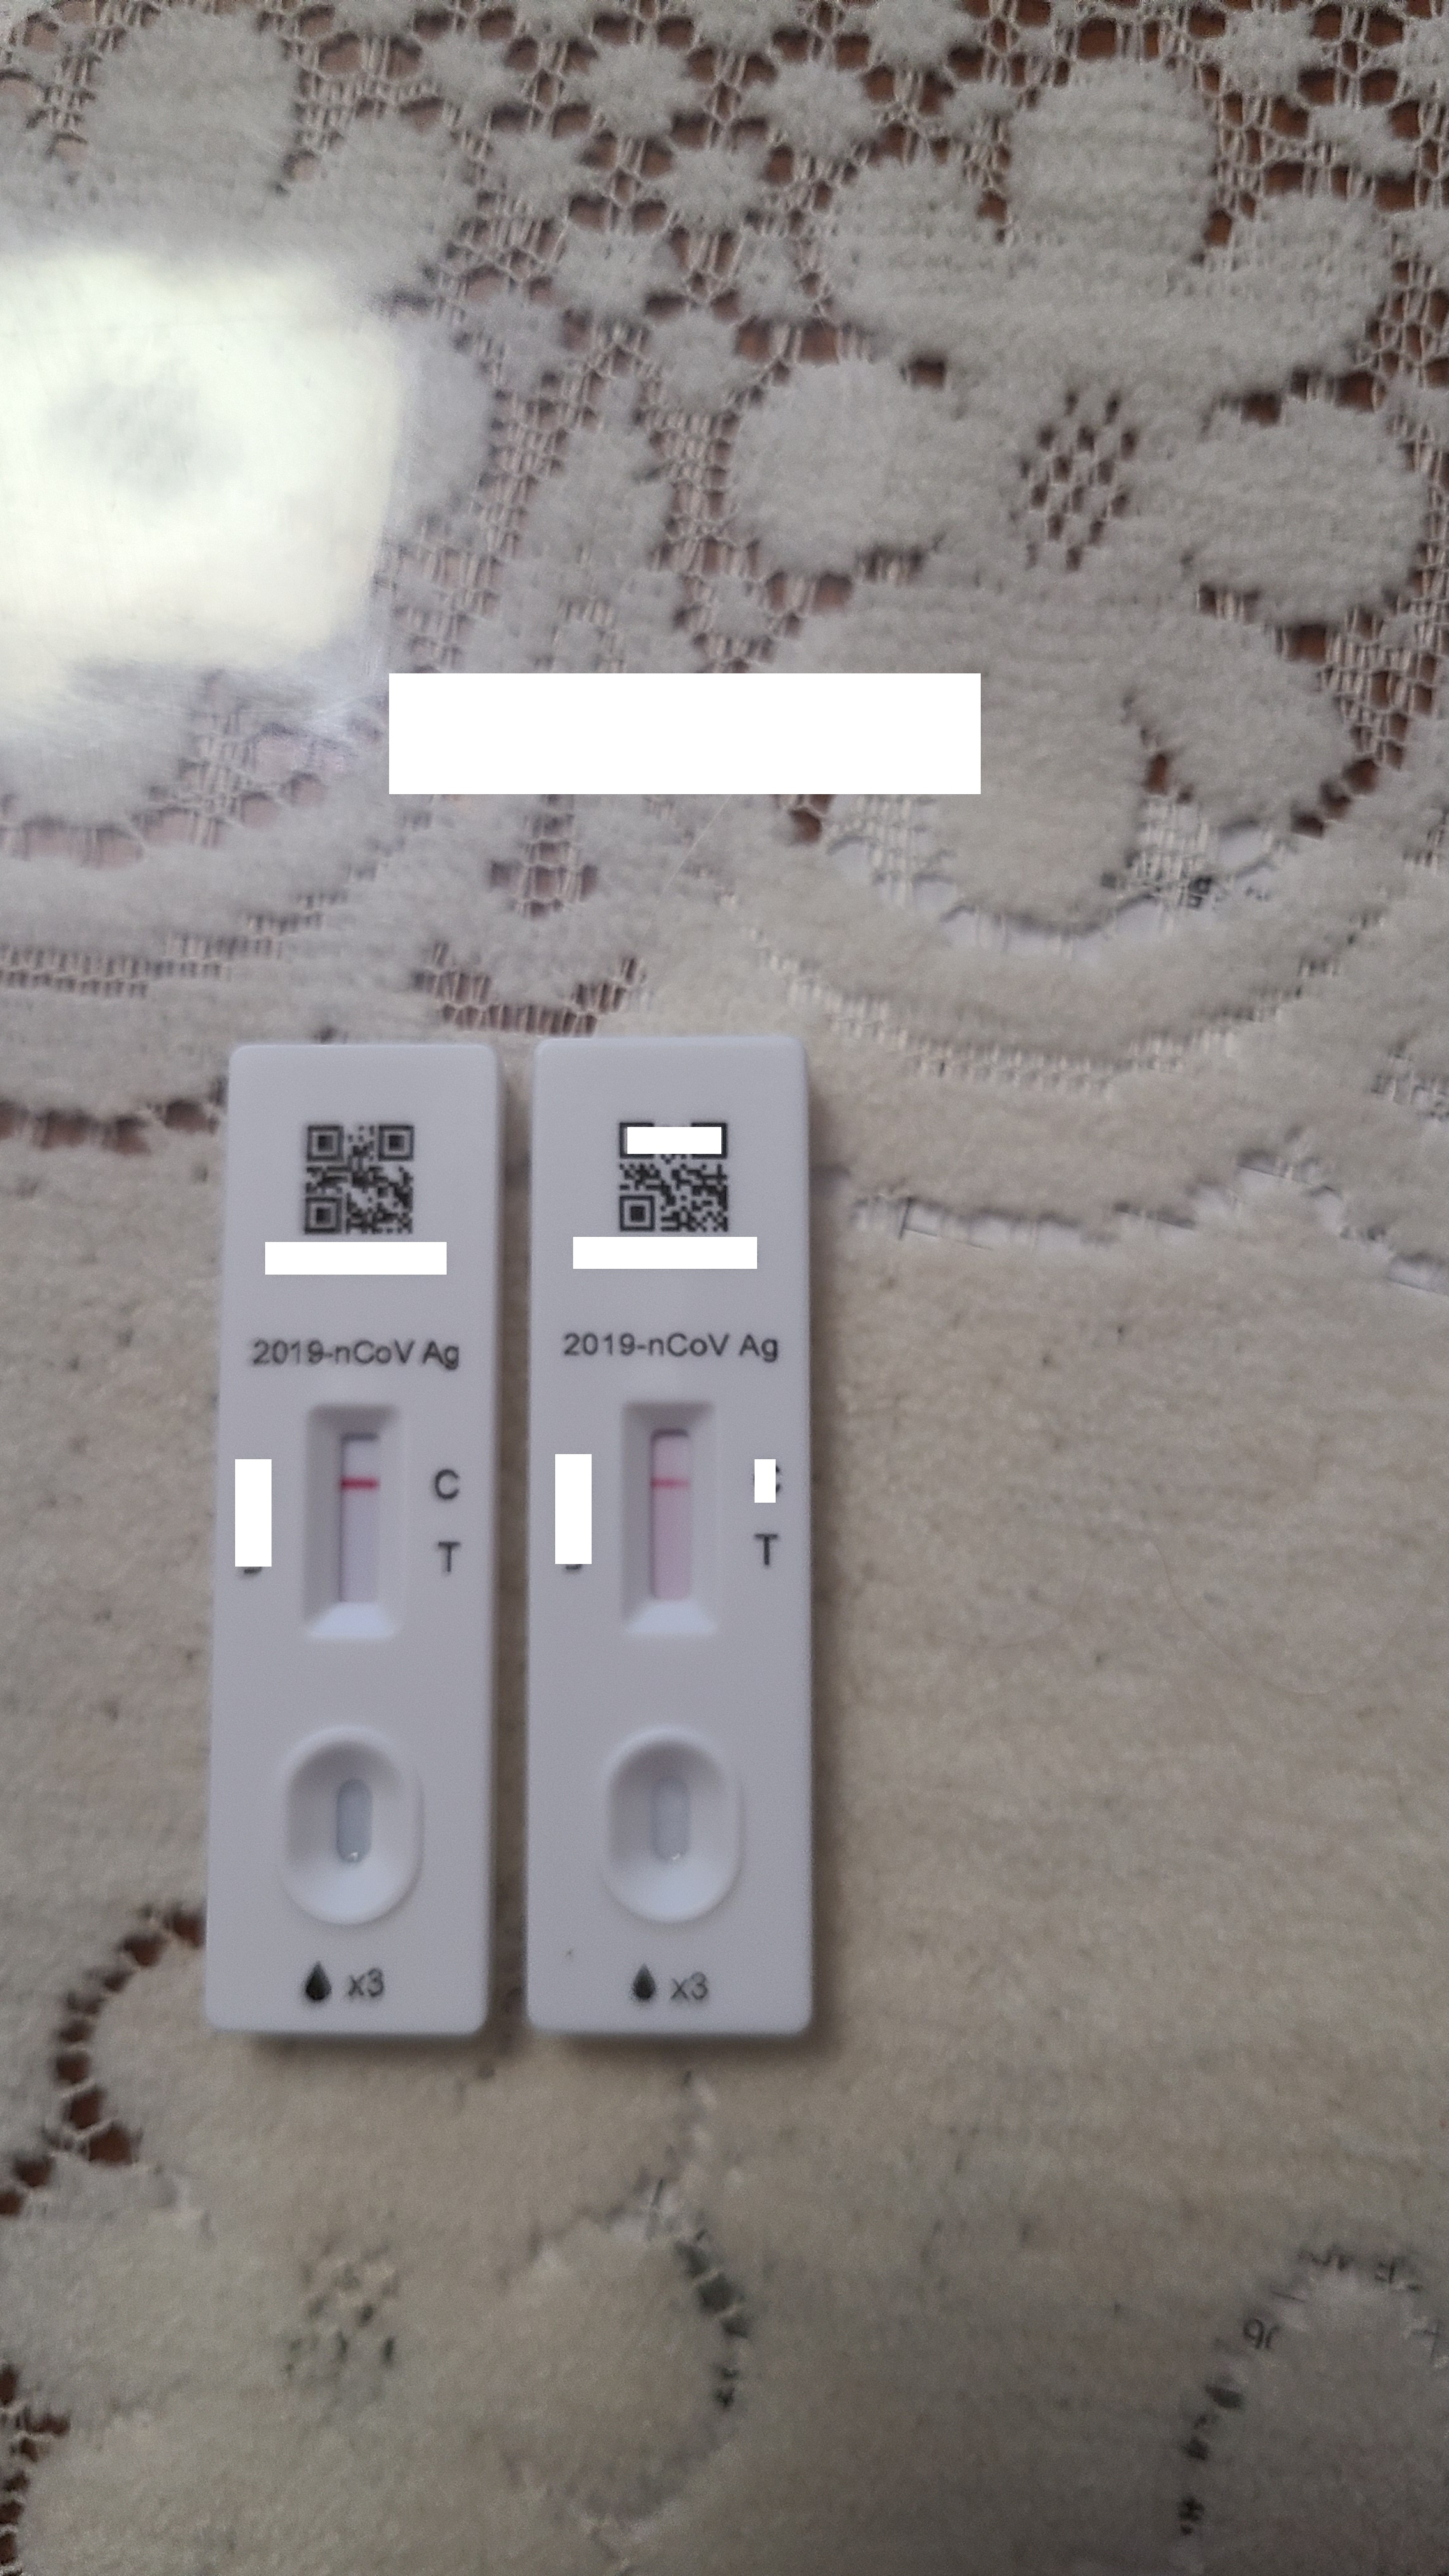negative: (304, 1399, 400, 1642), (621, 1398, 711, 1626)
